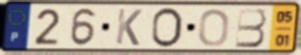2: (34, 7, 63, 46)
6: (70, 7, 98, 48)
B: (234, 7, 268, 49)
K: (114, 7, 144, 47)
O: (149, 6, 184, 49), (197, 8, 232, 48)
